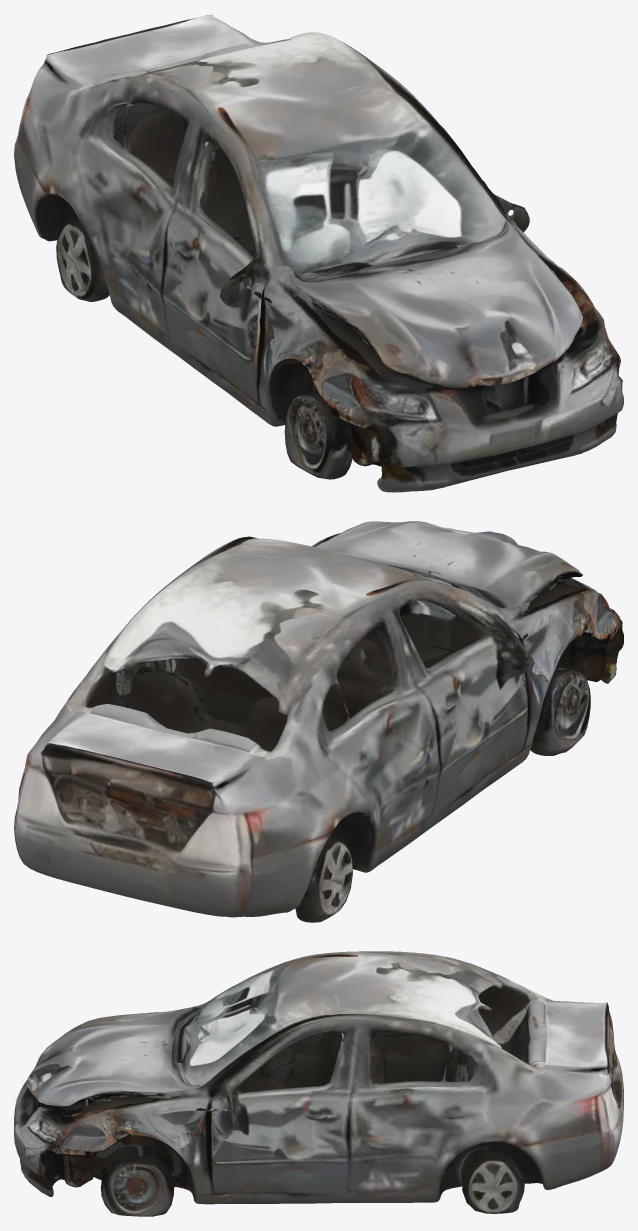
File: crashed-car-01.glb
3 renders of one model, top to bottom at view 1: azimuth 30°, elevation 25°; view 2: azimuth 150°, elevation 25°; view 3: azimuth 270°, elevation 25°, orthographic. The views are drawn at different scales.
Parts seen in each view (by area): view 1: model.001; view 2: model.001; view 3: model.001.
Part boxes in pixels (x1,y1,x2,y2): model.001: (14,14,623,492); model.001: (14,521,623,922); model.001: (14,951,623,1216).
Bounding box in the file's own units: 0.847 × 0.6393 × 1.9.
1 material, 1 textured.
